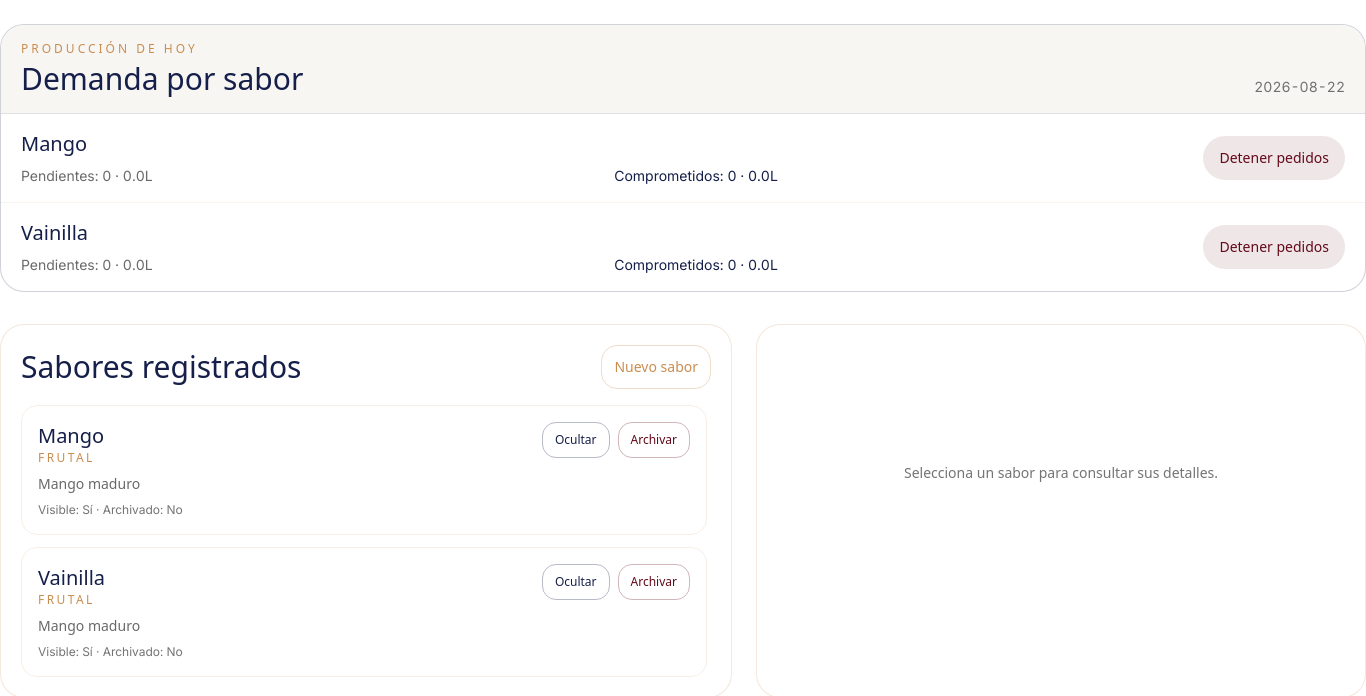
Scenario: AdminFlavorsPage production demand › ignores a previous flavor's lot response after switching flavors
What coordinates should you click on to do the following:
click the button "Mango Frutal"
I would click on:
 (71, 436)
Its box is [38,422,530,466].
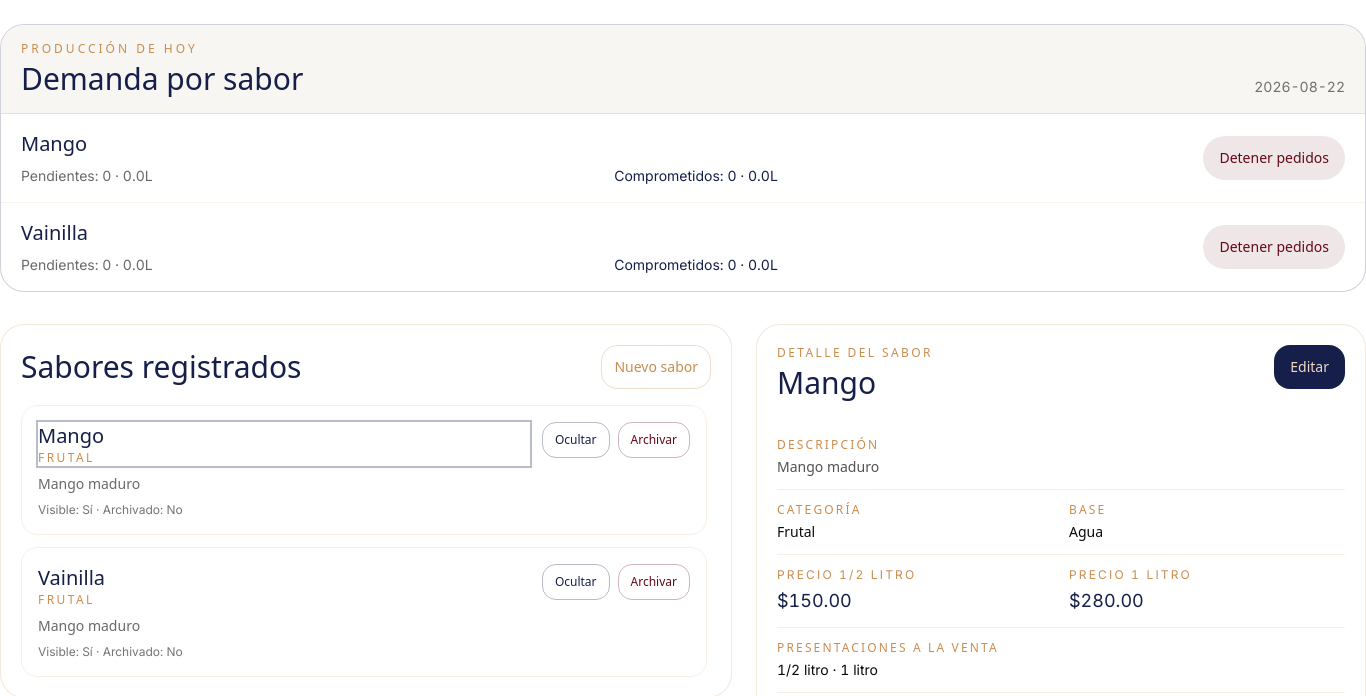
What coordinates should you click on to do the following:
click the button "Vainilla Frutal"
I would click on:
 (72, 578)
Its box is [38,564,530,608].
(page scrolled)
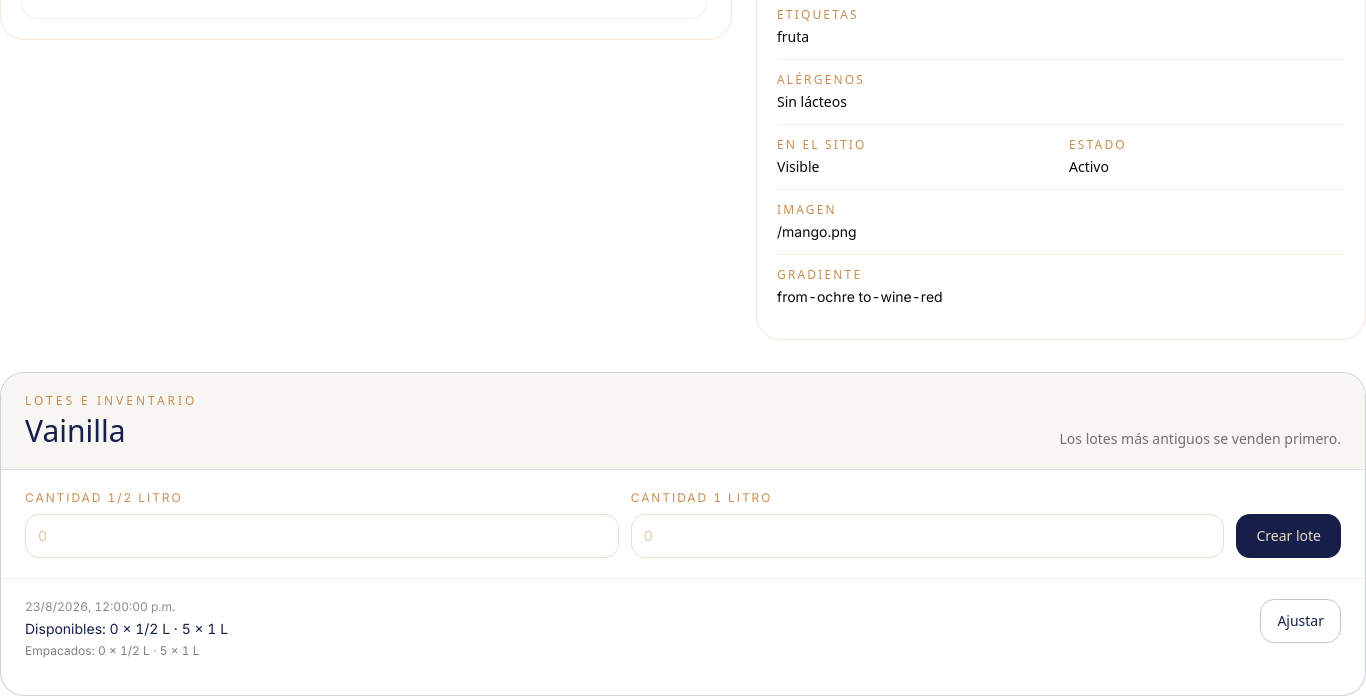
Now the text "Disponibles: 0 × 1/2 L · 5 × 1 L" is shown, box [25,619,228,639]
